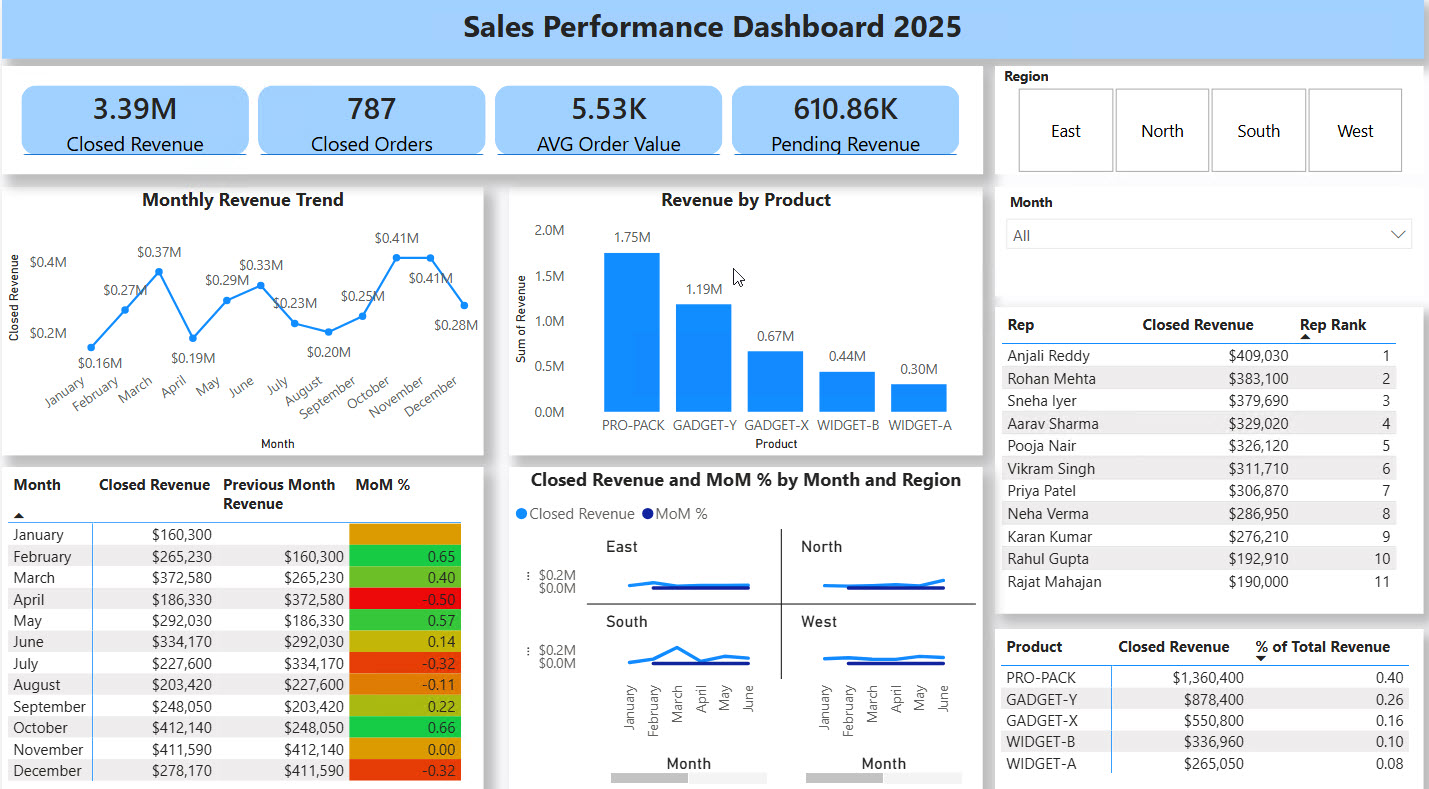

What the dashboard file says about the page in this screenshot:
{"tool":"powerbi","page":{"name":"Page 1","canvas":[1280,720],"ordinal":0},"visuals":[{"type":"lineChart","title":"Monthly Revenue Trend","fields":{"Y":["Raw_Data.Closed Revenue"],"Category":["DateTable.Date.Variation.Date Hierarchy.Month"]},"box":[9.7,183.8,427,238.3],"z":0},{"type":"columnChart","title":"Revenue by Product","fields":{"Category":["Raw_Data.Product"],"Y":["Sum(Raw_Data.Revenue)"]},"box":[459.1,183.8,420.2,238.3],"z":1000},{"type":"textbox","box":[9.7,16.5,1260.5,52.5],"z":2000},{"type":"tableEx","fields":{"Values":["Raw_Data.Rep","Raw_Data.Closed Revenue","Raw_Data.Rep Rank"]},"box":[890,289.8,380.3,272.3],"z":3000},{"type":"cardVisual","fields":{"Data":["Raw_Data.Closed Revenue","Raw_Data.Closed","DateTable.AVG Order value","DateTable.Pending Revenue"]},"box":[9.7,75.9,869.5,96.3],"z":5000},{"type":"pivotTable","fields":{"Rows":["DateTable.Month"],"Values":["Raw_Data.Closed Revenue","DateTable.Previous Month Revenue","DateTable.MoM %"]},"box":[9.7,431.9,427,287.9],"z":8000},{"type":"lineChart","fields":{"Category":["DateTable.Month"],"Y":["Raw_Data.Closed Revenue","DateTable.MoM %"],"Rows":["Raw_Data.Region"]},"box":[459.1,431.9,420.2,287.9],"z":9000},{"type":"pivotTable","title":"Revenue by Product","fields":{"Rows":["Raw_Data.Product"],"Values":["Raw_Data.Closed Revenue","DateTable.% of Total Revenue"]},"box":[890,575.8,380.3,144],"z":10000},{"type":"slicer","fields":{"Values":["DateTable.Month"]},"box":[890,183.8,380.3,97.3],"z":10001},{"type":"slicer","fields":{"Values":["Raw_Data.Region"]},"box":[890,75.9,380.3,96.3],"z":10002}]}

Visuals, with their boxes in screenshot pixels (x1, y1, x2, y2), scaled from the page's 1280x720 canvas onto the 1429x789 screenshot:
"Monthly Revenue Trend" lineChart: (11, 201, 488, 463)
"Revenue by Product" columnChart: (513, 201, 982, 463)
textbox: (11, 18, 1418, 76)
tableEx - Raw_Data.Rep x Raw_Data.Closed Revenue: (994, 318, 1418, 616)
cardVisual - Raw_Data.Closed Revenue x Raw_Data.Closed: (11, 83, 982, 189)
pivotTable - DateTable.Month x Raw_Data.Closed Revenue: (11, 473, 488, 788)
lineChart - DateTable.Month x Raw_Data.Closed Revenue: (513, 473, 982, 788)
"Revenue by Product" pivotTable: (994, 631, 1418, 788)
slicer - DateTable.Month: (994, 201, 1418, 308)
slicer - Raw_Data.Region: (994, 83, 1418, 189)
